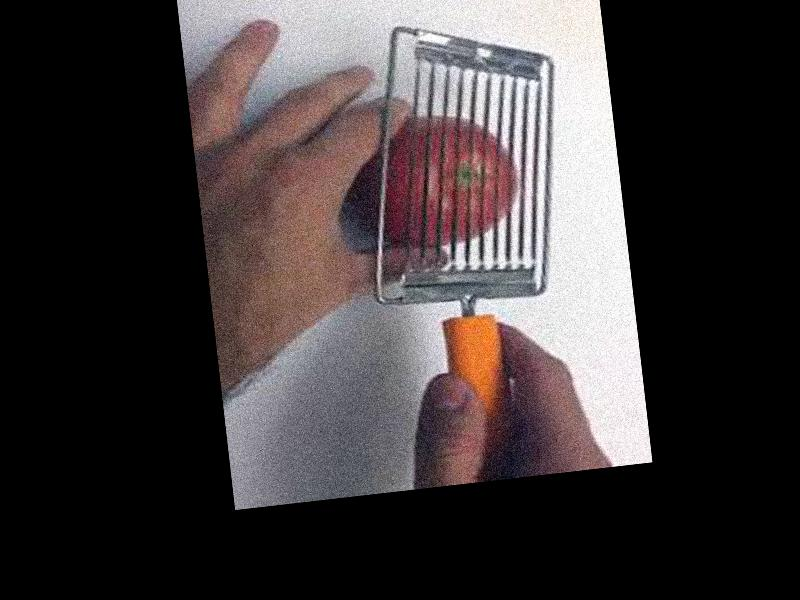Tomato: (349, 110, 523, 257)
